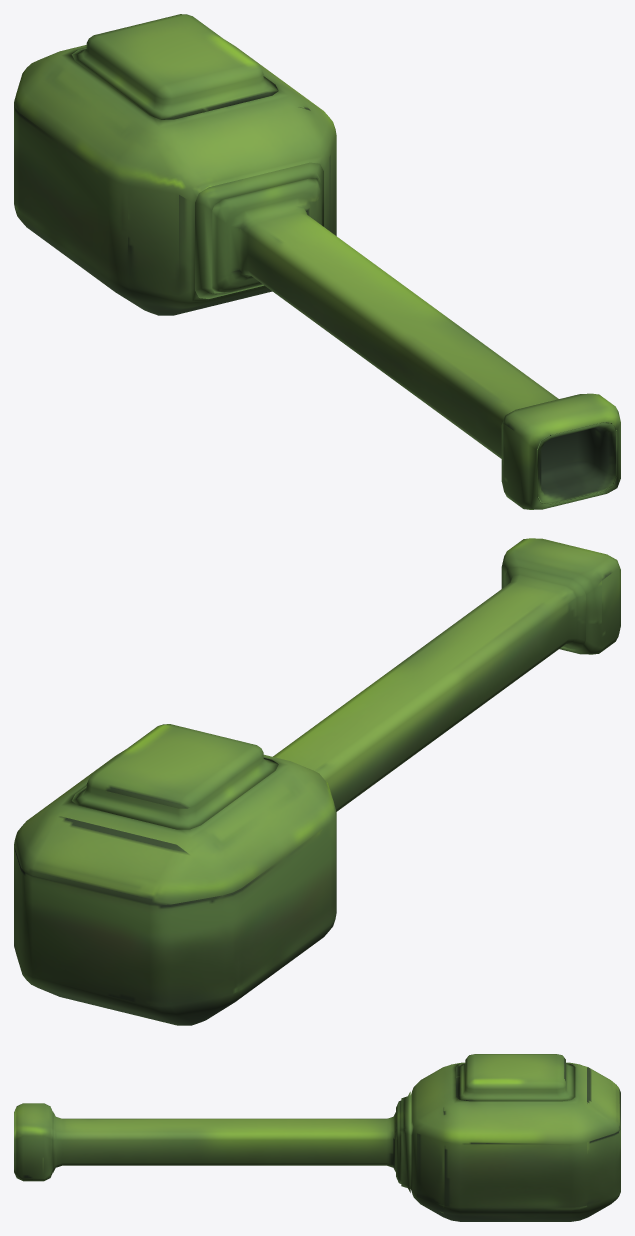
Rendered from TankCannon.fbx.
3 renders of one model, top to bottom at view 1: azimuth 30°, elevation 25°; view 2: azimuth 150°, elevation 25°; view 3: azimuth 270°, elevation 25°, orthographic. The views are drawn at different scales.
Parts seen in each view (by area): view 1: Cannon; view 2: Cannon; view 3: Cannon.
Boxes of the visible parts, x1,y1,x2,y2 form: Cannon: (14, 14, 620, 509); Cannon: (14, 538, 620, 1025); Cannon: (14, 1054, 620, 1221).
Bounding box in the file's own units: 117 × 108 × 442.
